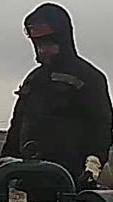gloves: (74, 148, 107, 183)
helmet: (22, 16, 55, 38)
vest: (11, 64, 112, 185)
